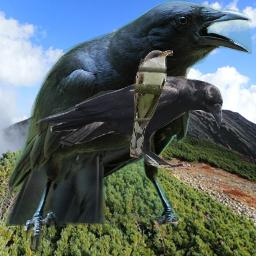Crow: (0, 0, 252, 251), (36, 76, 223, 168)
Cuckoo: (130, 50, 173, 158)
